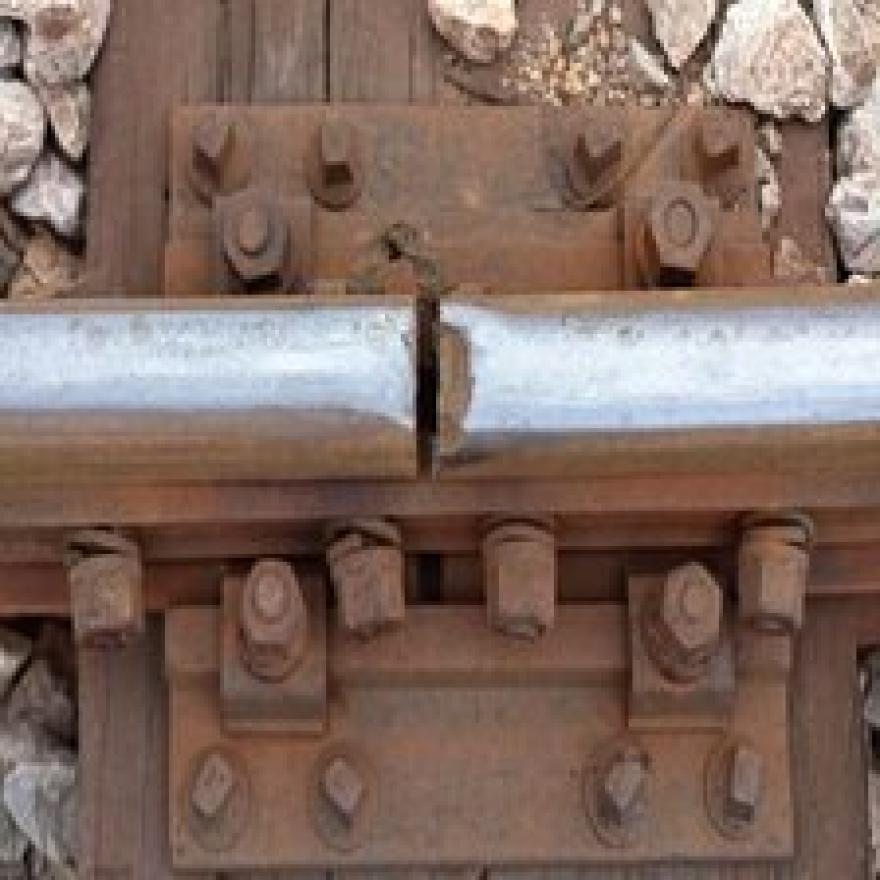railway-gap: (248, 208, 604, 556)
